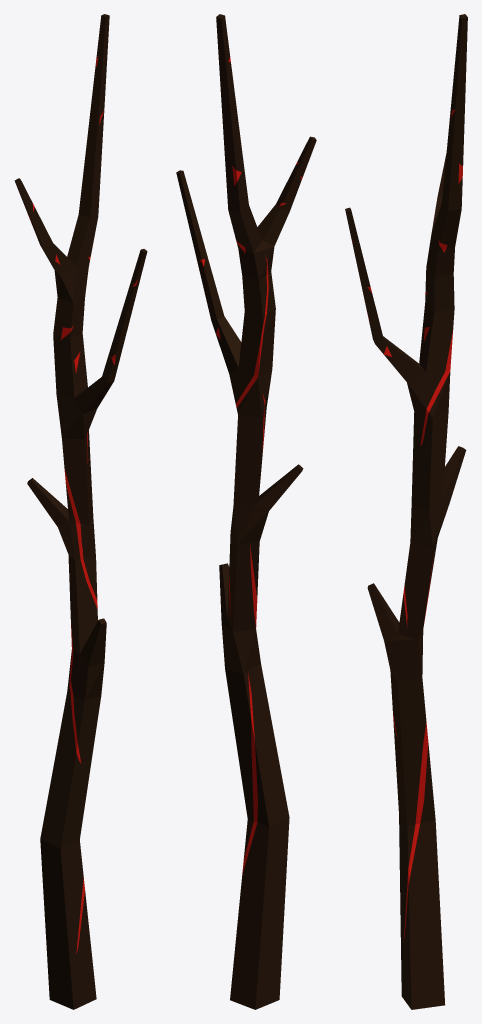
Rendered from FireWand.obj.
The picture shows the model from 3 angles, left to right: view 1: azimuth 30°, elevation 25°; view 2: azimuth 210°, elevation 25°; view 3: azimuth 270°, elevation 25°; orthographic projection. The views are drawn at different scales.
Visible parts, largest first — view 1: Cube; view 2: Cube; view 3: Cube.
Boxes of the visible parts, bbox=[...] form: Cube: bbox=[14, 14, 147, 1009]; Cube: bbox=[176, 14, 316, 1009]; Cube: bbox=[345, 14, 467, 1009].
Size of the model in its own units: 0.0888 by 0.8379 by 0.0922.
